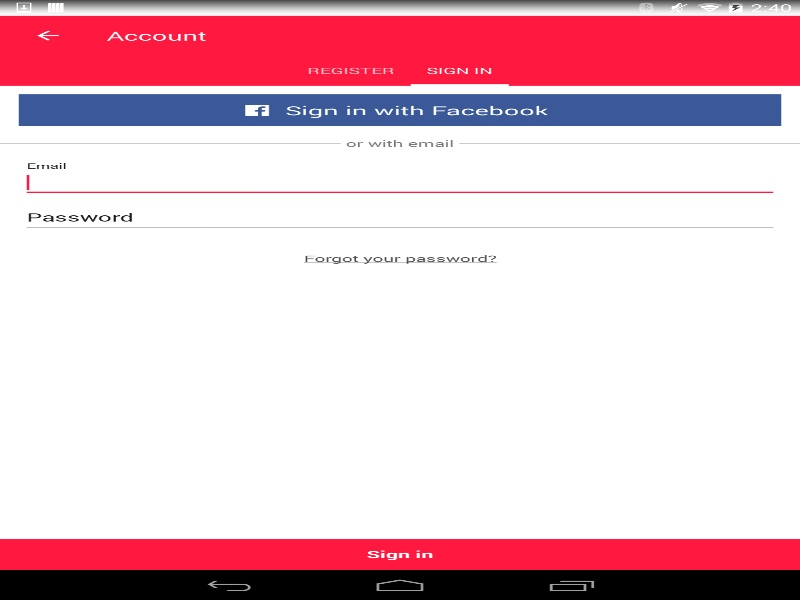Button: (10, 15, 85, 55)
Input: (21, 168, 778, 197), (21, 204, 778, 232)
